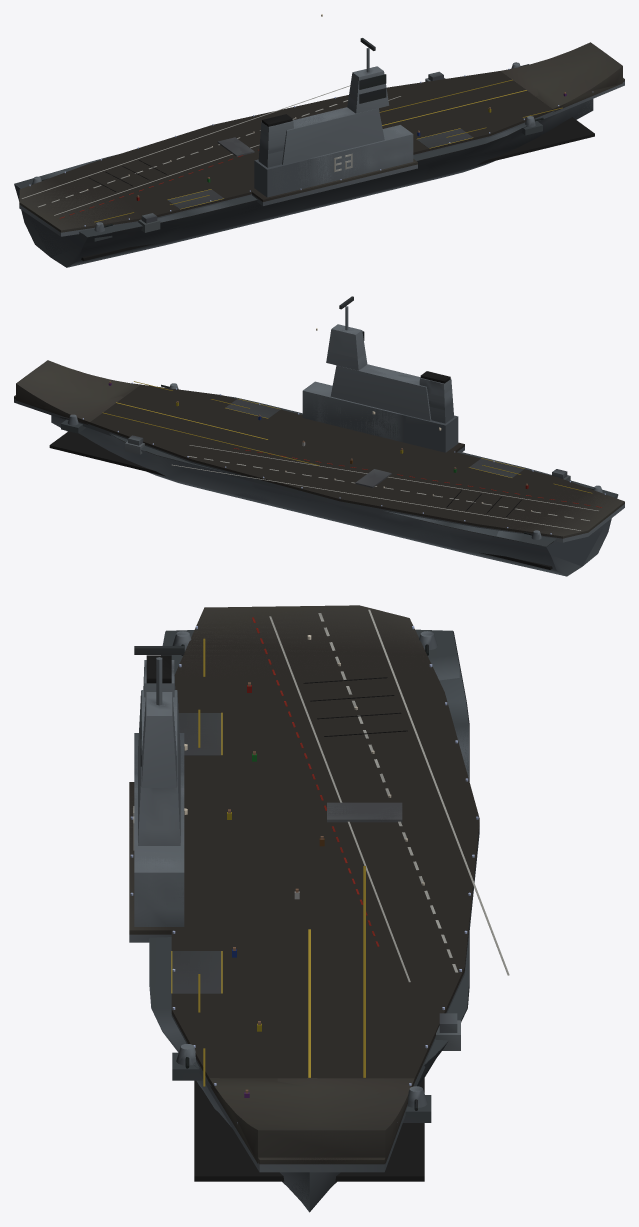
File: naval-cvrussia.glb
3 renders of one model, top to bottom at view 1: azimuth 30°, elevation 25°; view 2: azimuth 150°, elevation 25°; view 3: azimuth 270°, elevation 25°, orthographic. The views are drawn at different scales.
Parts seen in each view (by area): view 1: cv_russia_body, cv_russia_body_l1; view 2: cv_russia_body, cv_russia_body_l1; view 3: cv_russia_body, cv_russia_body_l1, cv_russia_jbd, cv_russia_jbd_l1.
Boxes of the visible parts, x1,y1,x2,y2 form: cv_russia_body: (14, 14, 624, 267); cv_russia_body_l1: (14, 16, 624, 262); cv_russia_body: (14, 306, 624, 576); cv_russia_body_l1: (14, 306, 624, 571); cv_russia_body: (129, 605, 509, 1212); cv_russia_body_l1: (129, 605, 479, 1209); cv_russia_jbd: (327, 802, 402, 822); cv_russia_jbd_l1: (327, 802, 402, 822).
Bounding box in the file's own units: 5.24 × 1.53 × 1.52.
